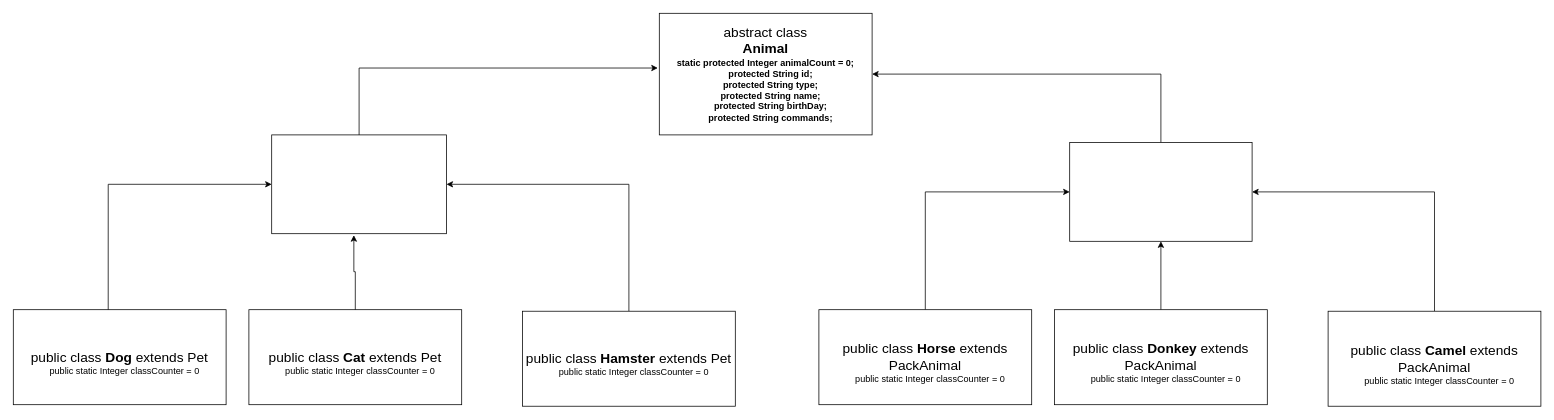
The diagram is 1554 pixels wide and 420 high, and some of its shapes have lost their labels. Here are the shapes that lost their labels. From the top down, the centre of each, then its label:
At (358,184): "abstract class Pet extends Animal static protected Integer typeCount = 0;".
At (1160,191): "abstract class PackAnimal extends Animal static protected Integer typeCount = 0;".
